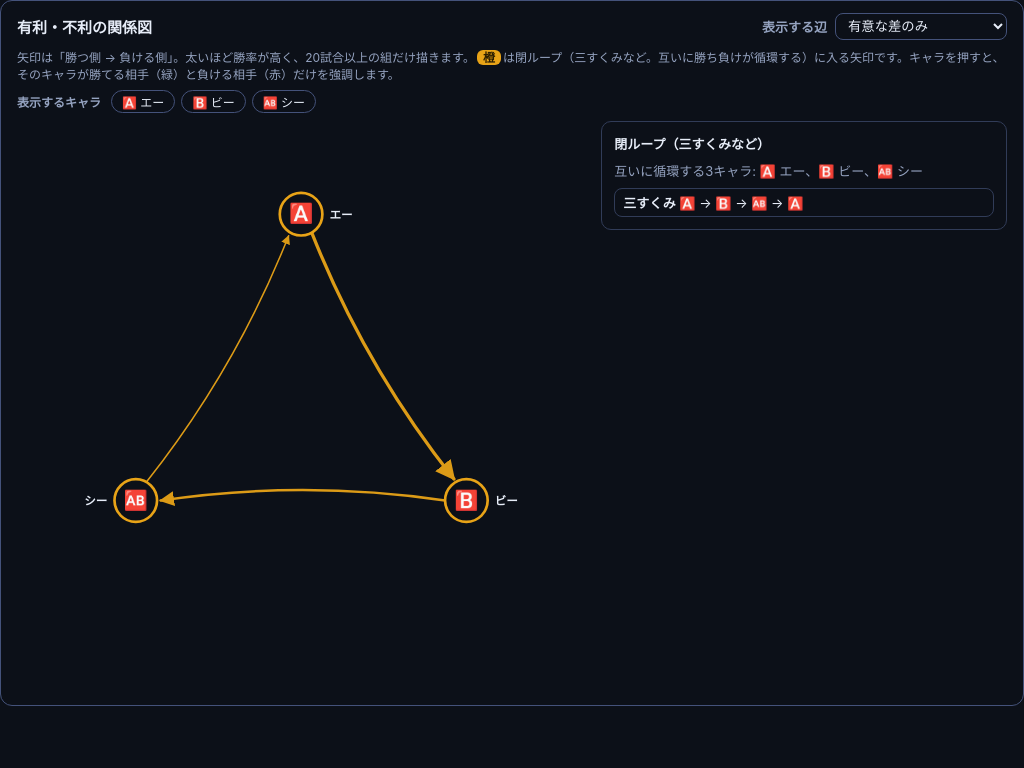
Test: MatchupGraph › 表示する辺の条件に応じて閉ループも作り直す（弱い辺を除くと三すくみが崩れる）
Expected: the text "三すくみ" is shown, [623,195,676,211]
Select "勝率60%以上" in the dropdown labelled "表示する辺" at (921, 26), box [835,13,1007,40]
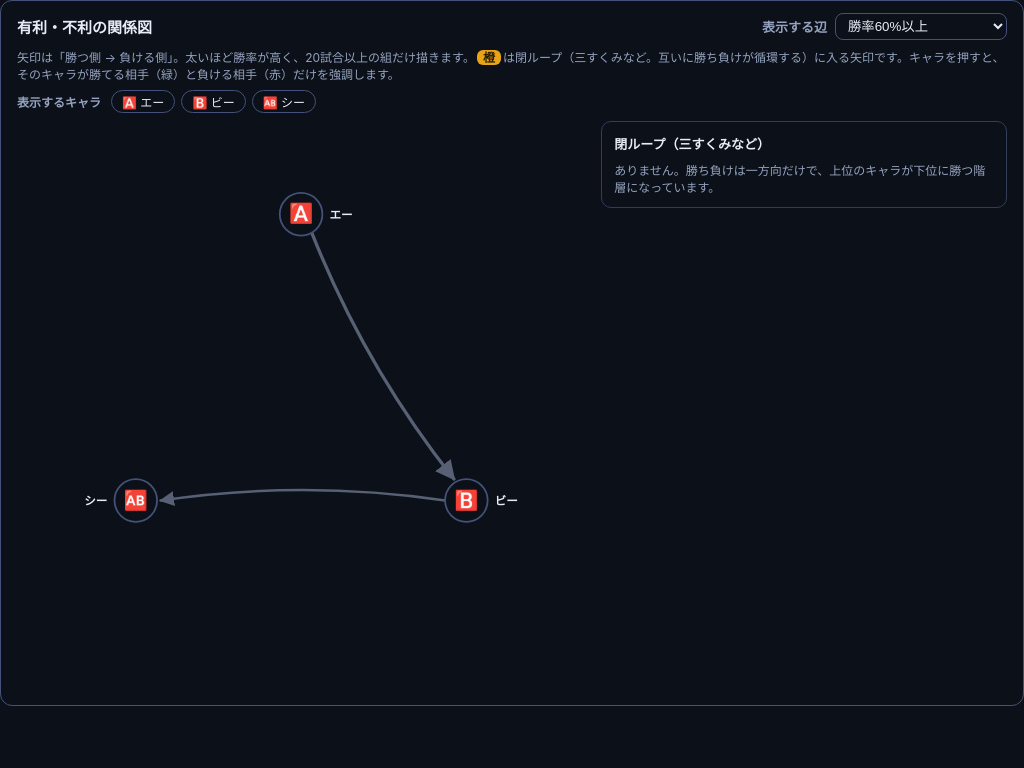
Now the text "ありません。勝ち負けは一方向だけで、上位のキャラが下位に勝つ階層になっています。" is shown, box [614,161,994,195]
